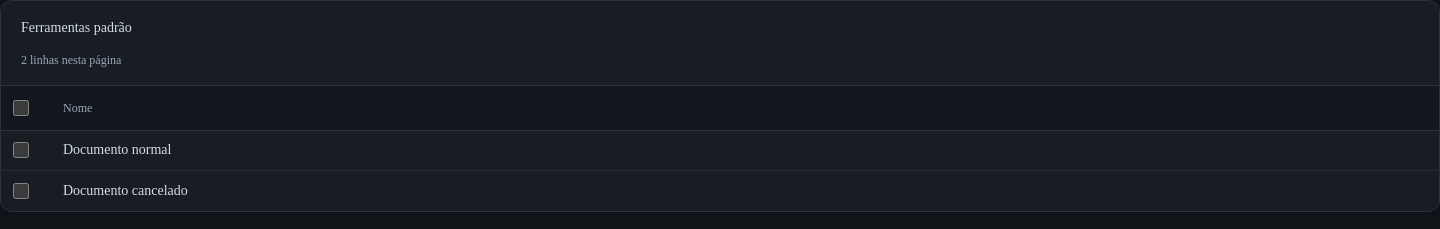
it: barra contextual da tabela › substitui as ferramentas padrão enquanto há linhas selecionadas
This screenshot has width=1440, height=229.
Check: the button "Ferramentas padrão" is shown, box [21, 17, 132, 39]
Check: the button "Baixar 1 XML" is not shown
Step 1. Click the checkbox named "Selecionar linha 1" → (21, 150), box [13, 142, 29, 158]
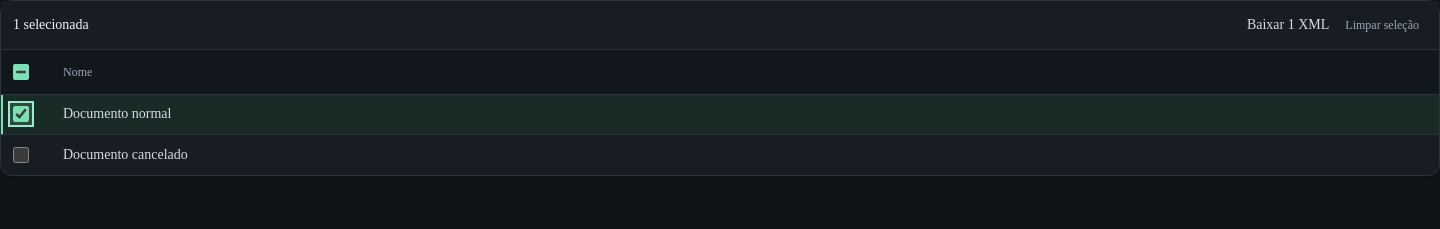
Check: the button "Ferramentas padrão" is gone
Check: the button "Baixar 1 XML" is shown, box [1247, 14, 1329, 36]
Check: the text "1 selecionada" is shown, box [13, 14, 89, 36]
Step 2. Click the button "Limpar seleção" → (1382, 25), box [1337, 9, 1427, 41]
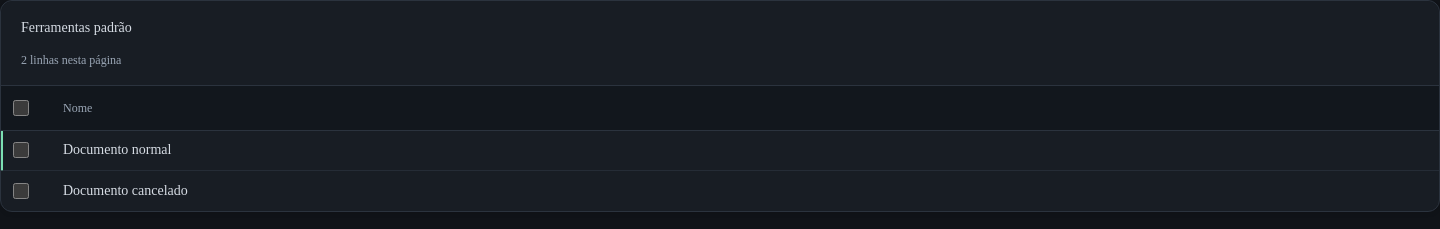
Check: the button "Ferramentas padrão" is shown, box [21, 17, 132, 39]
Check: the button "Baixar 1 XML" is gone
